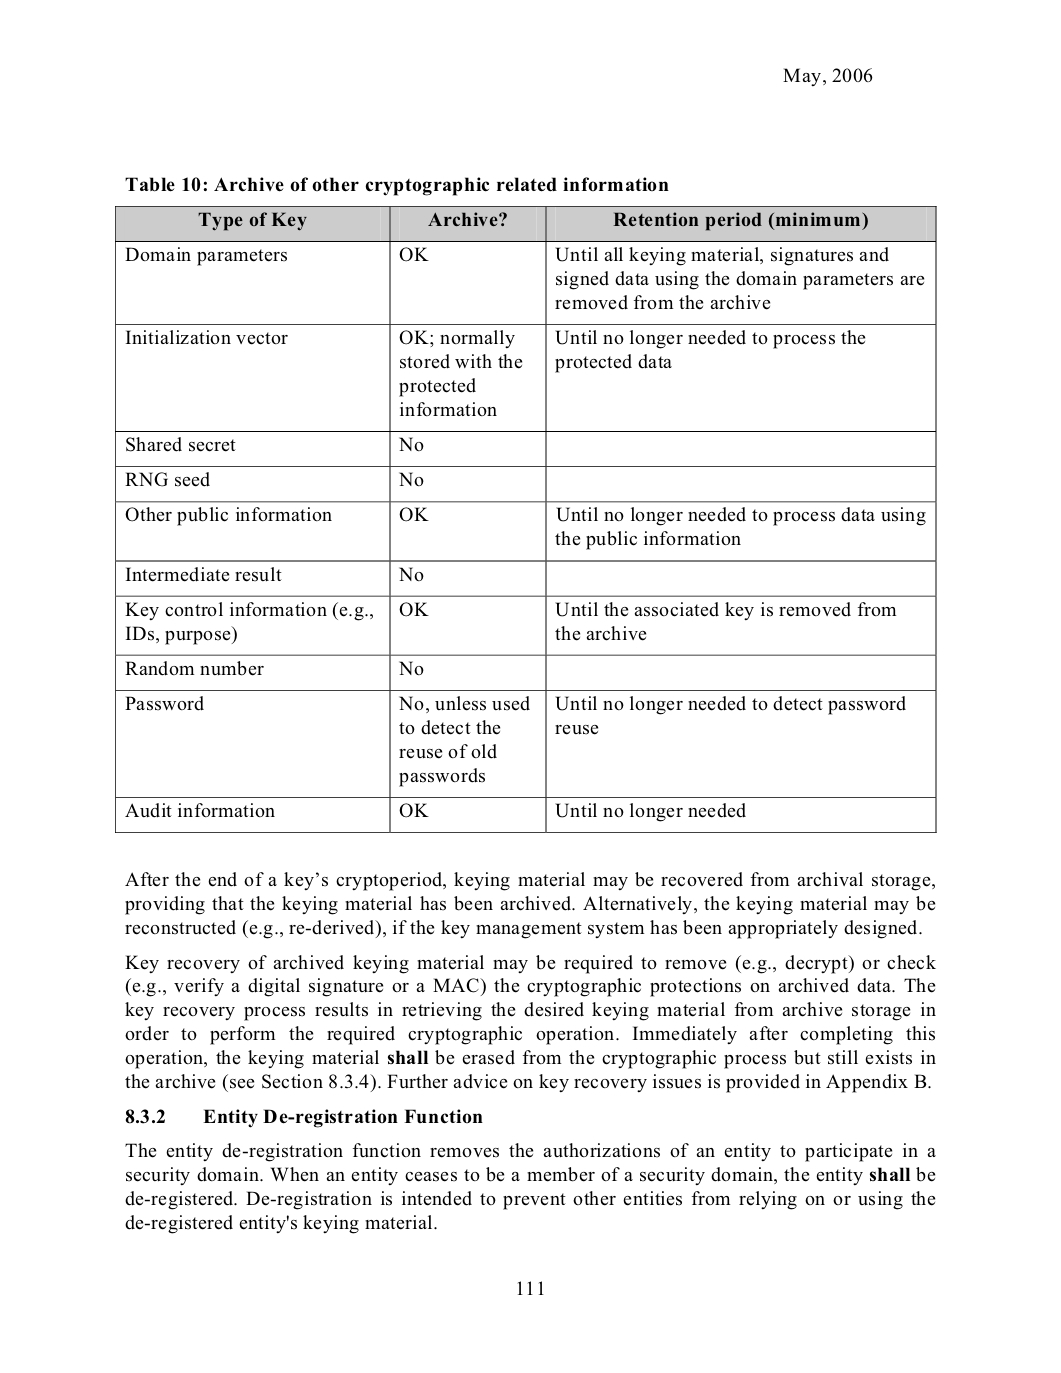Table: (115, 205, 936, 832)
